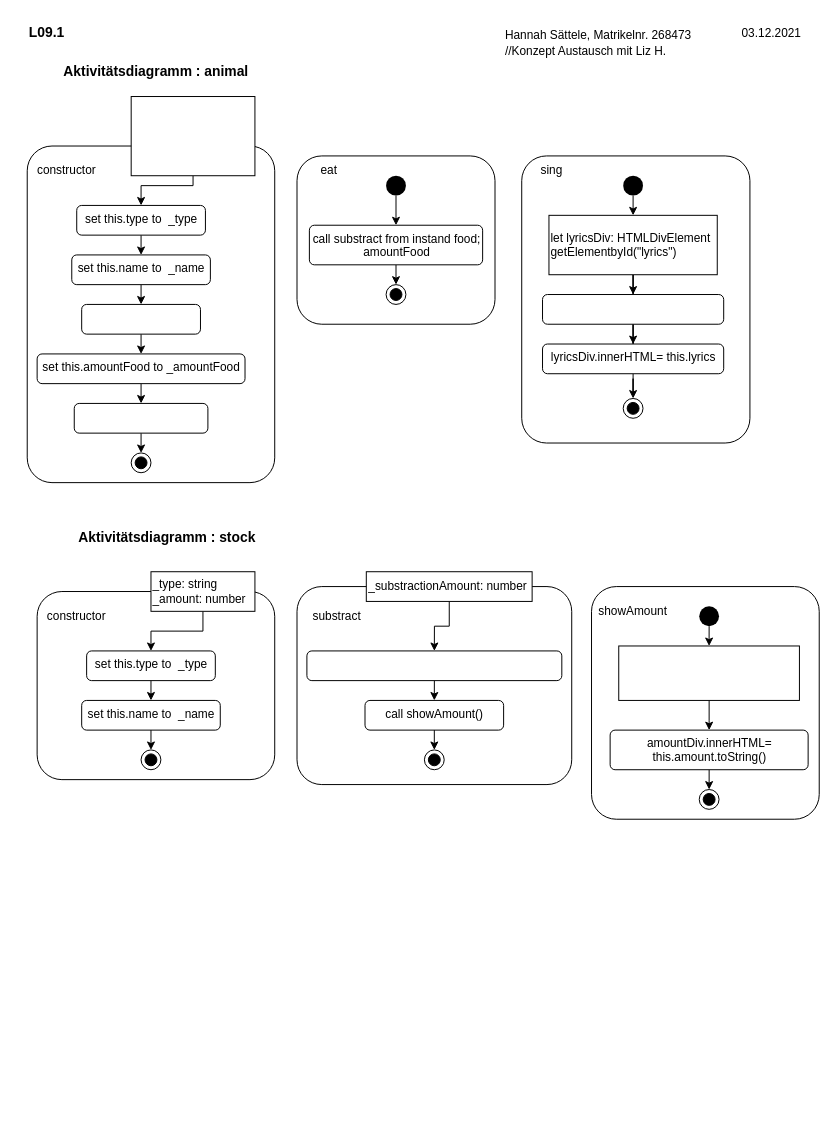
This 837x1122 diagram has some shape labels left out. Each missing label, with the centre of its shape:
_type: string _name: string _food: string _amountFood: number _lyrics: string: point (192, 136)
let amountDiv: HTMLDivElement getElementbyId("amount"): point (708, 672)
nameDiv.innerHTML= this.name: point (633, 309)
set this.food to _food: point (140, 318)
set this.lyrics to _lyrics: point (140, 417)
this.amount = amount - substractionAmount: point (434, 665)
